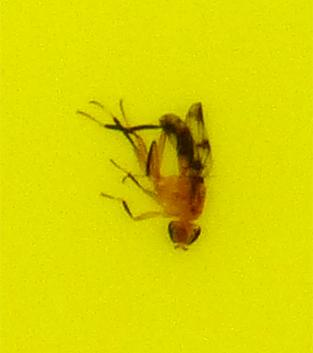Brachycera: (100, 100, 213, 253)
